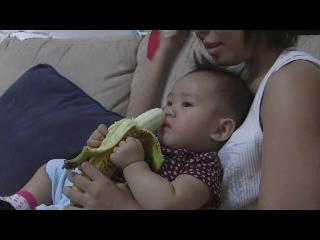banana: (62, 107, 166, 208)
